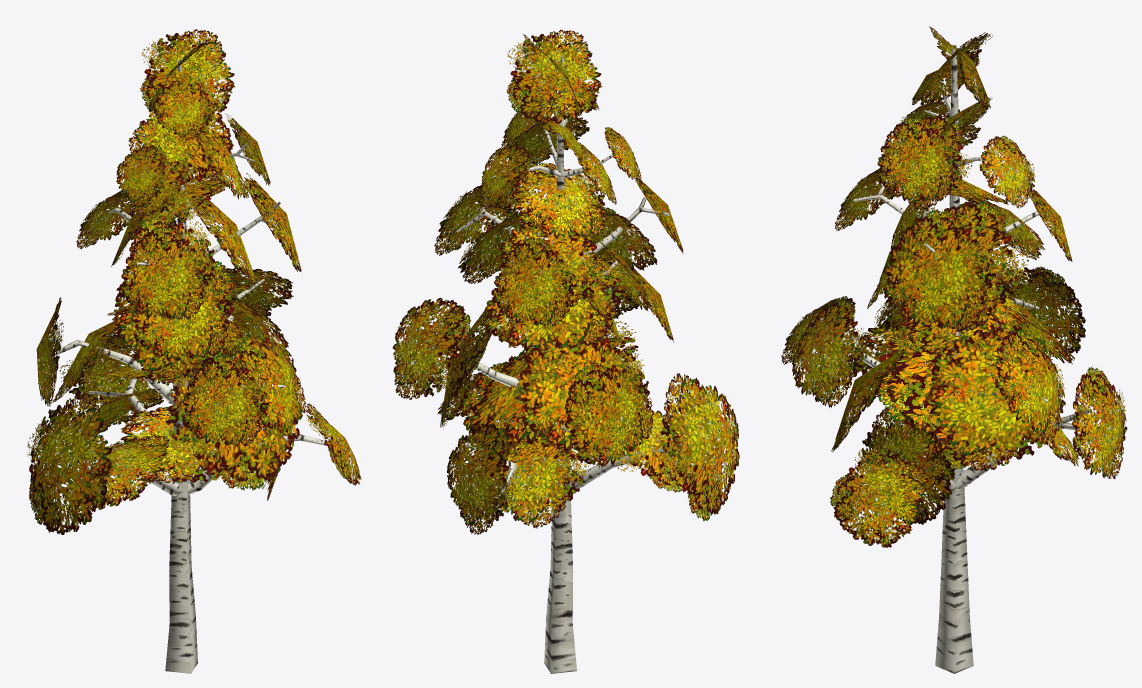
File: Momo_Tree_Aspen1.fbx
3 views of the same model, side by side, from view 1: azimuth 30°, elevation 25°; view 2: azimuth 150°, elevation 25°; view 3: azimuth 270°, elevation 25° (orthographic). The views are drawn at different scales.
Visible parts, largest first — view 1: Momo_Tree_Aspen1.001; view 2: Momo_Tree_Aspen1.001; view 3: Momo_Tree_Aspen1.001.
Boxes of the visible parts, box(x1,y1,x2,y2) form: Momo_Tree_Aspen1.001: box(27, 29, 361, 673); Momo_Tree_Aspen1.001: box(392, 30, 739, 673); Momo_Tree_Aspen1.001: box(781, 26, 1127, 673).
Size of the model in its own units: 1117 by 2225 by 1110.
